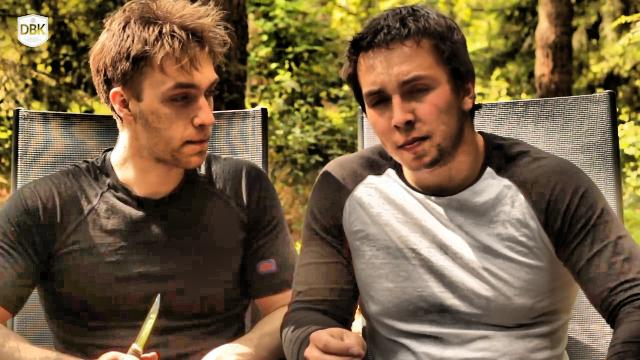knife: (118, 283, 180, 360)
